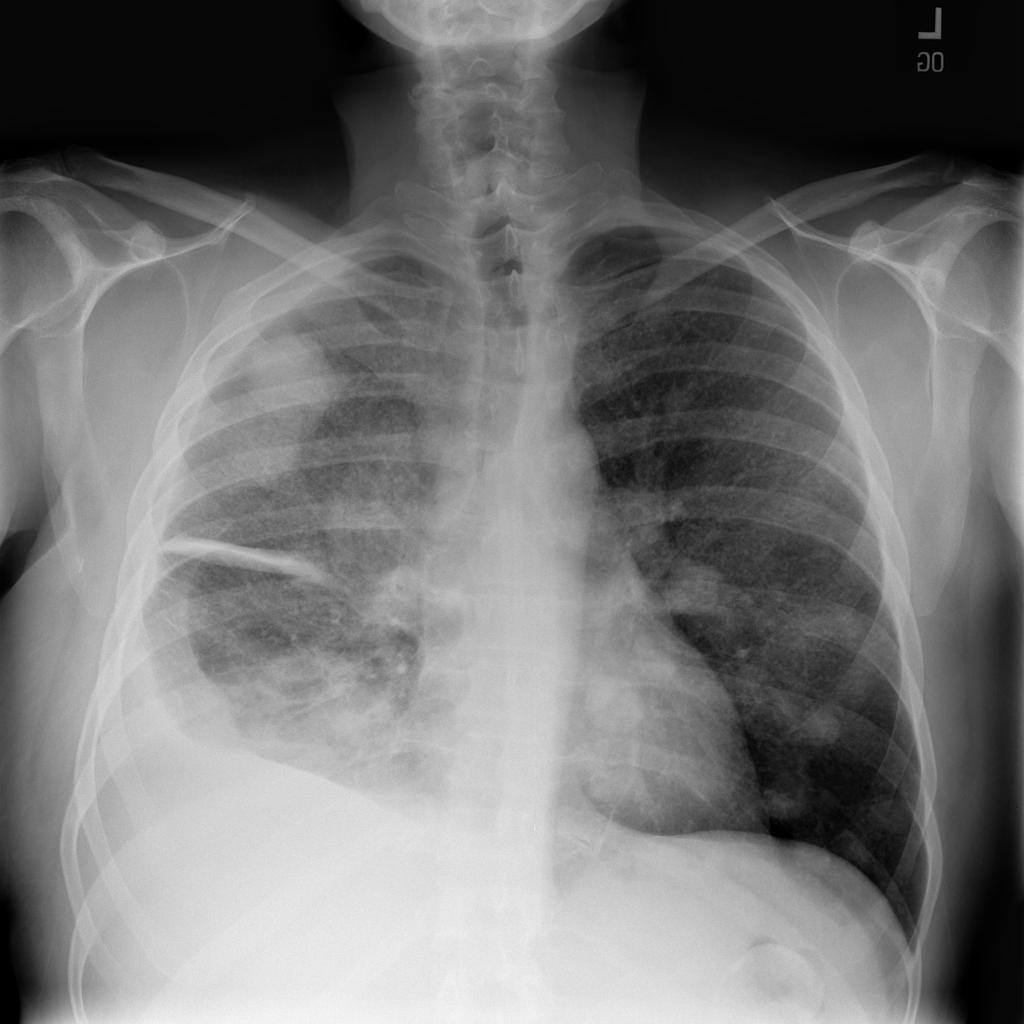nodule: (225, 312, 362, 447), (657, 545, 743, 631), (602, 636, 682, 711), (576, 664, 648, 745), (747, 762, 827, 830), (789, 687, 864, 759), (858, 774, 928, 842)
